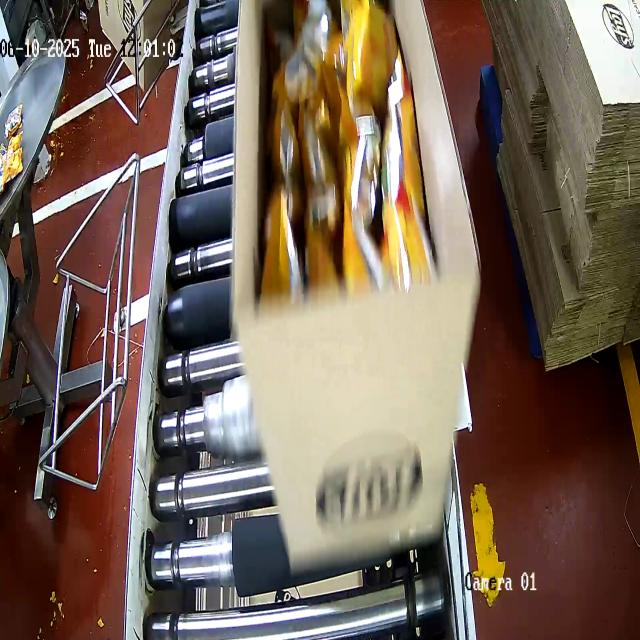FRENCH_CHEESE: (250, 0, 419, 301)
